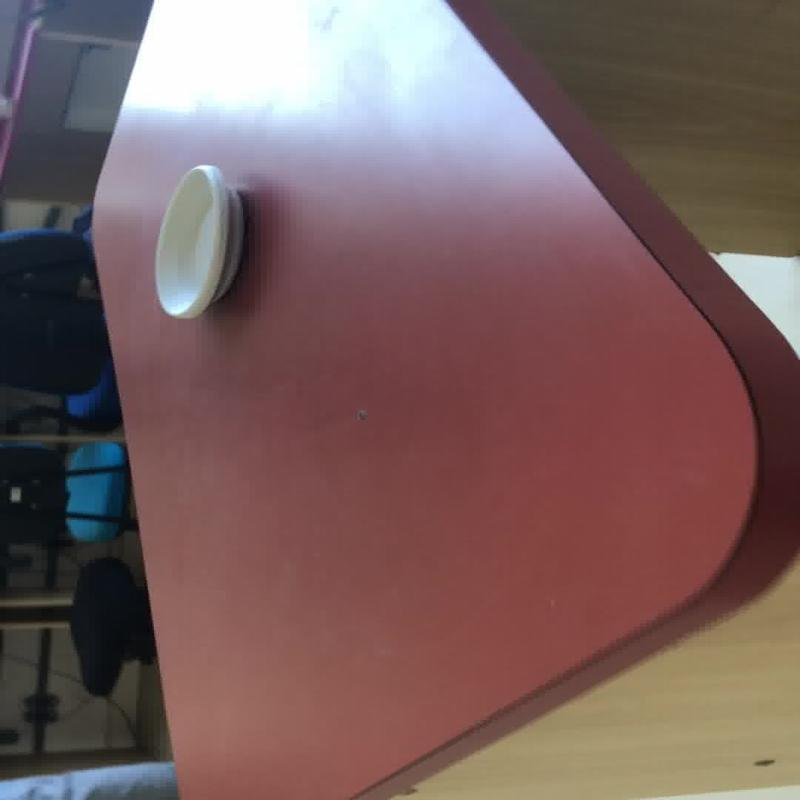plate: (84, 0, 796, 798), (152, 164, 245, 318)
